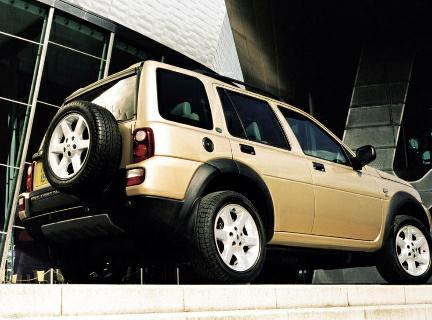路虎-神行者: (10, 56, 430, 291)
